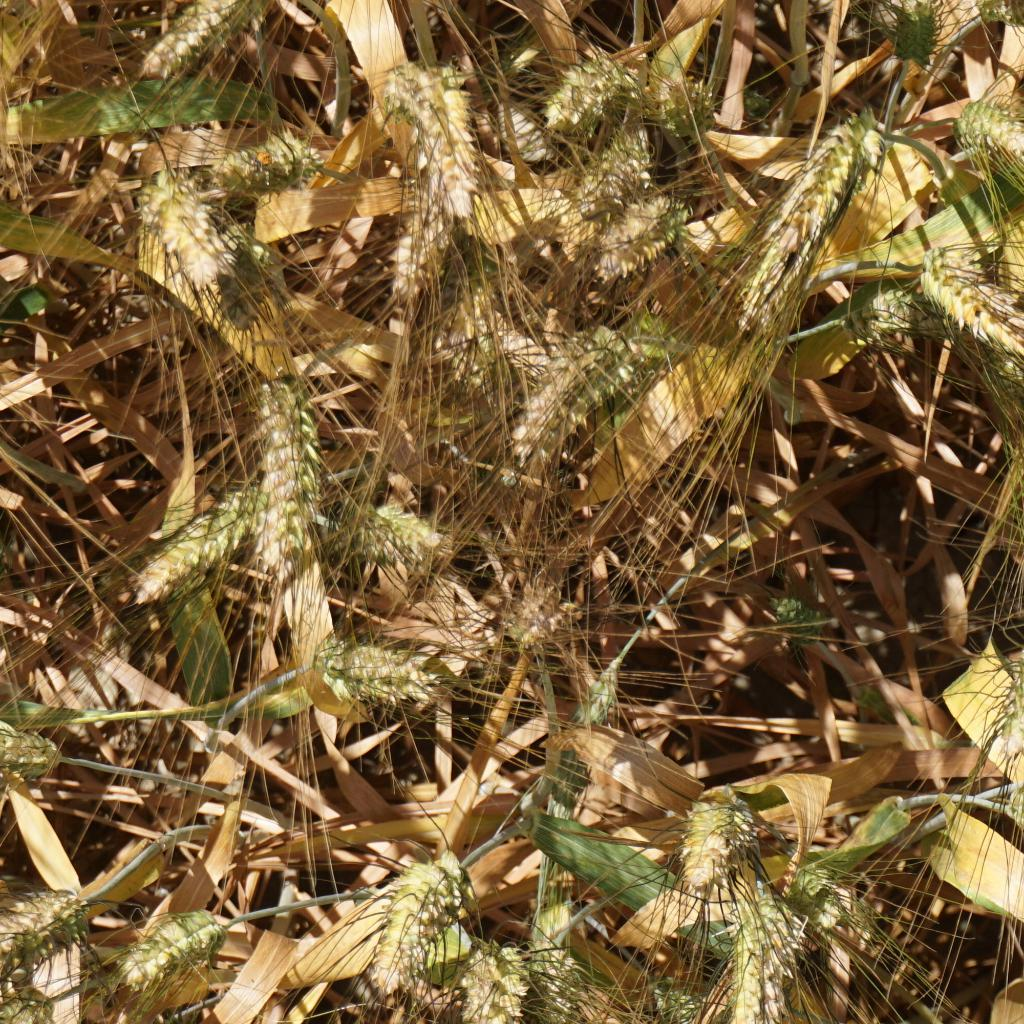0-0: (730, 109, 897, 316), (508, 321, 675, 473), (365, 53, 504, 202), (246, 364, 323, 572), (919, 246, 1024, 395), (372, 844, 462, 996), (305, 624, 444, 712), (379, 183, 472, 307), (121, 0, 258, 84), (799, 844, 884, 978), (0, 877, 98, 992), (121, 889, 228, 988), (147, 167, 236, 285), (137, 498, 244, 590), (334, 480, 439, 565), (208, 228, 283, 337), (207, 129, 321, 198), (594, 195, 695, 269), (673, 795, 752, 888), (734, 888, 787, 1024), (441, 309, 519, 395), (442, 937, 519, 1024), (541, 43, 624, 120), (582, 125, 653, 214), (953, 86, 1024, 174), (872, 0, 951, 78), (523, 937, 588, 1024), (504, 577, 577, 646), (0, 695, 60, 777), (569, 653, 640, 722), (640, 74, 709, 143), (990, 637, 1024, 754), (647, 965, 714, 1024), (774, 592, 833, 653), (860, 285, 913, 342), (992, 772, 1024, 838), (0, 1002, 43, 1024), (153, 1006, 202, 1024)
